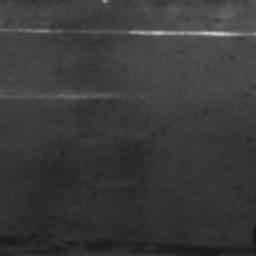Bright scratch: (0, 27, 256, 37)
